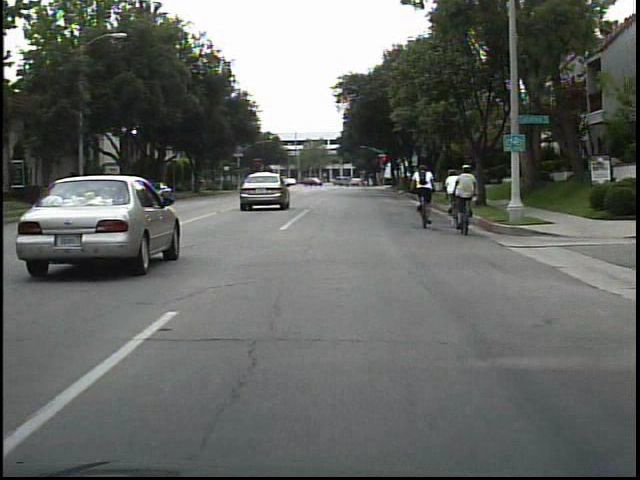person: (454, 160, 482, 236), (409, 160, 439, 229), (443, 165, 465, 229)
